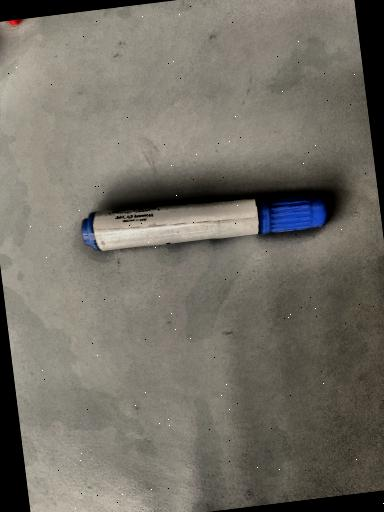marcador azul: (82, 196, 329, 251)
